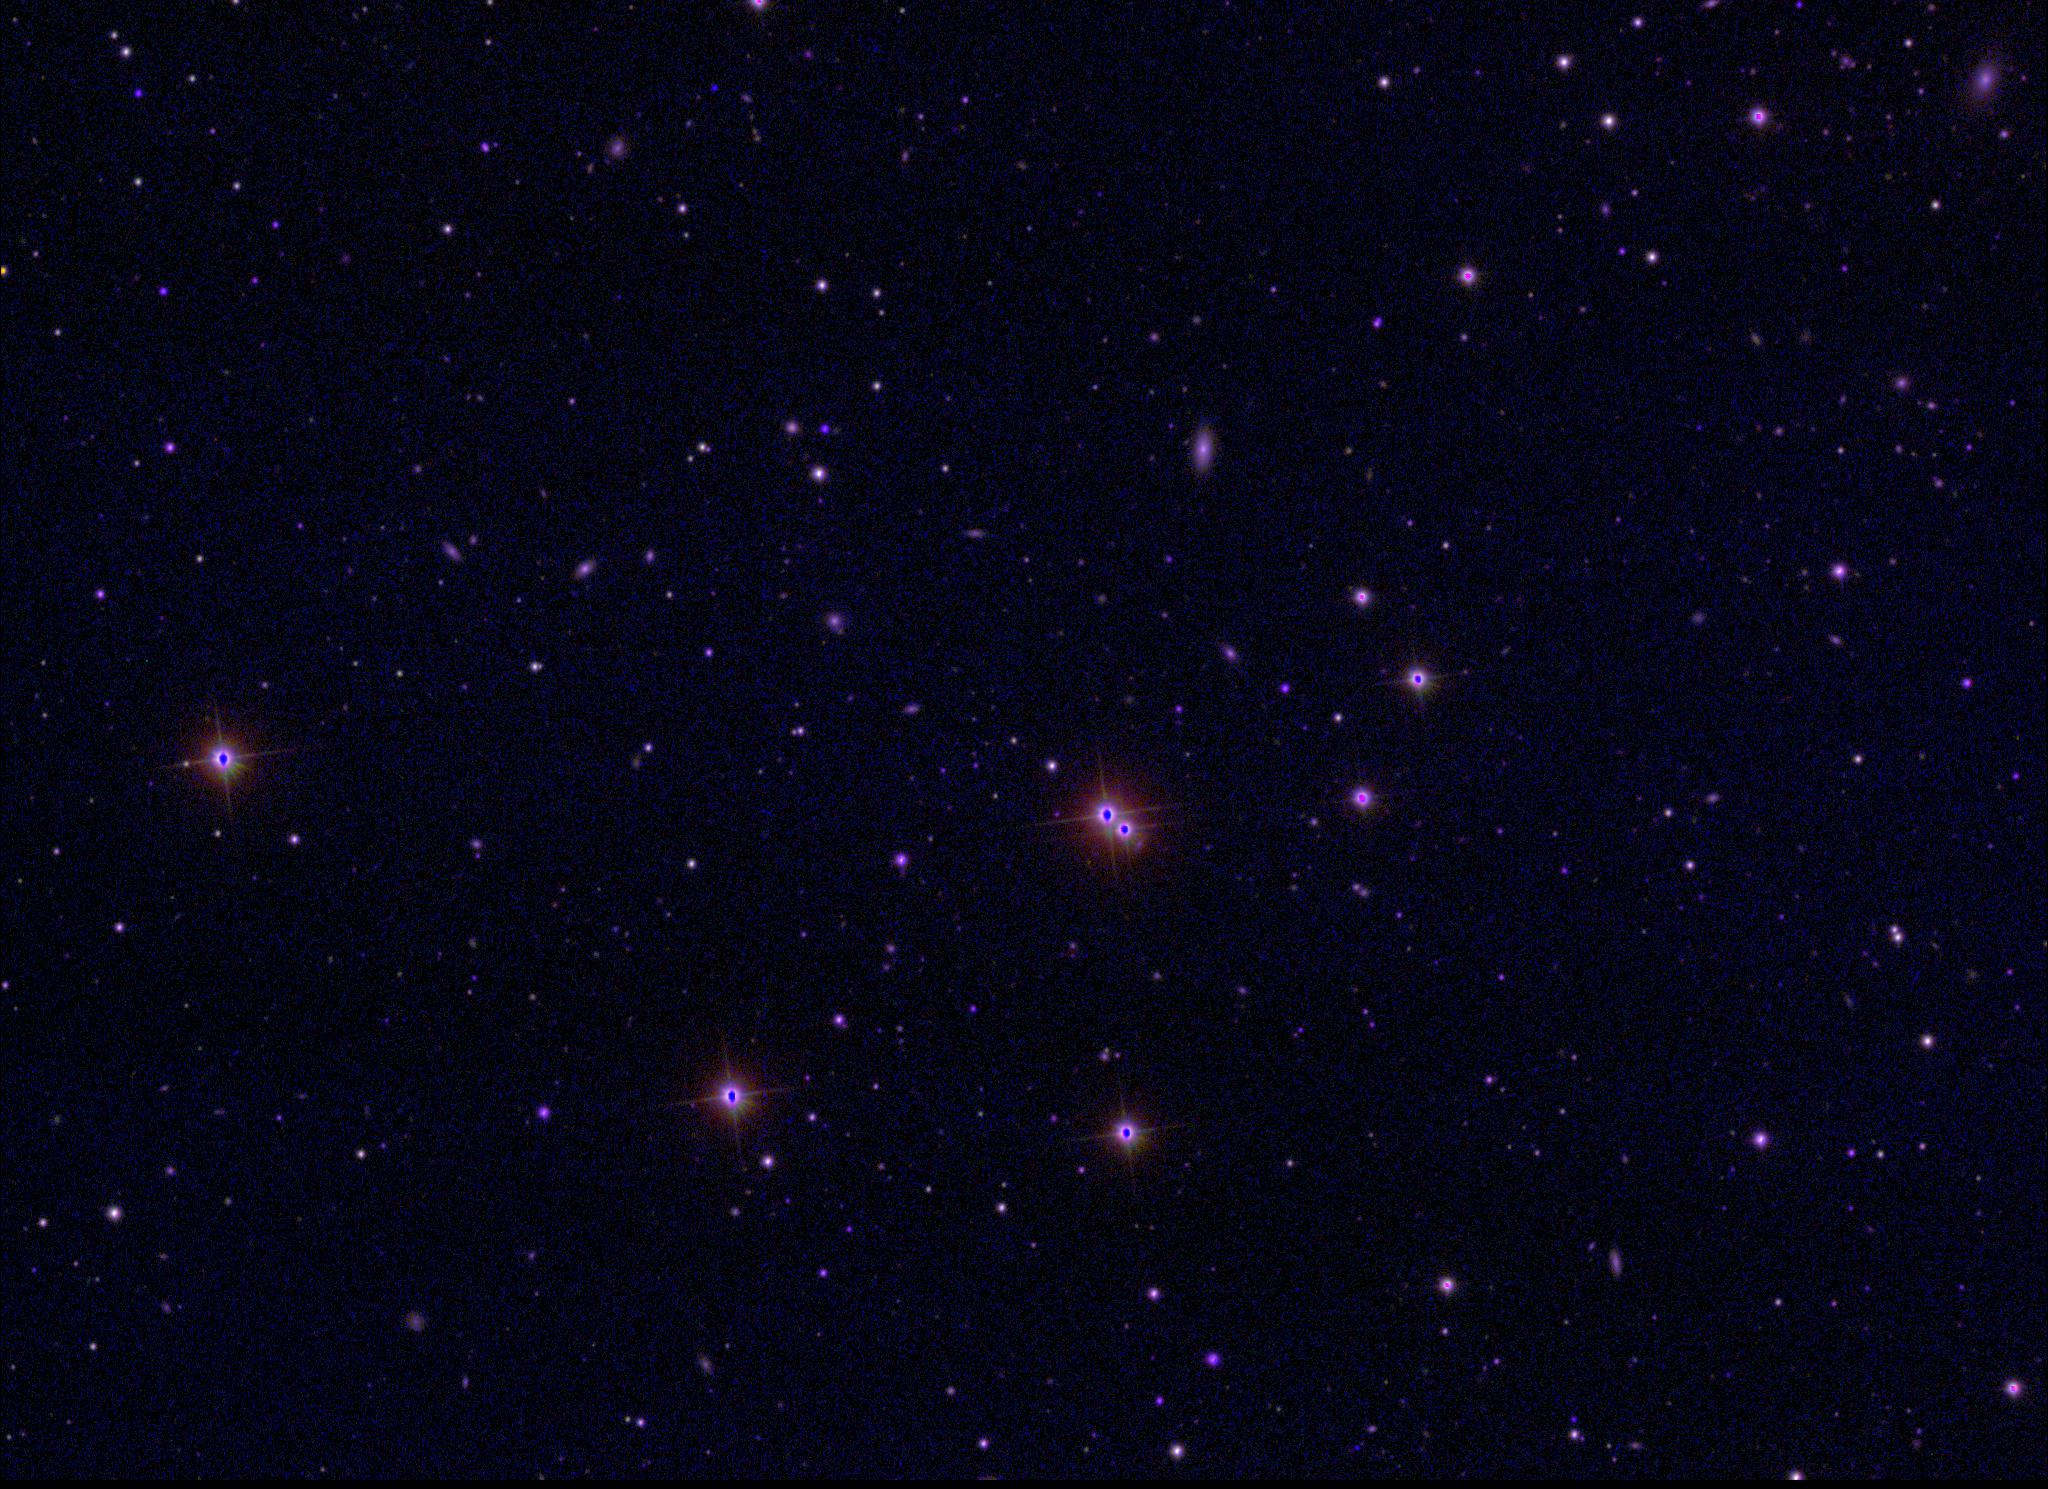L: (708, 80, 722, 92)
